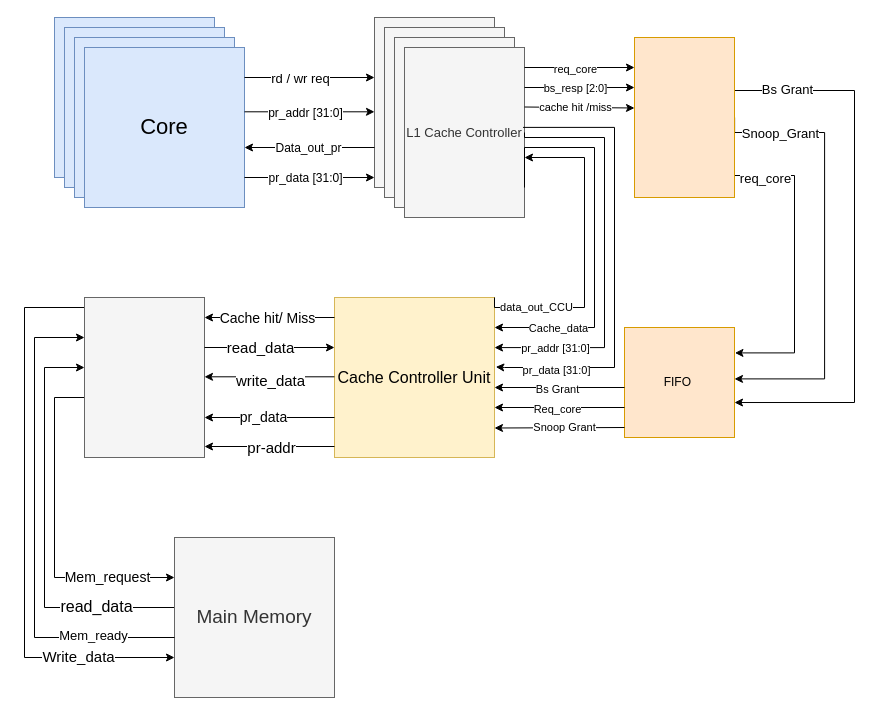
This 880x715 diagram has some shape labels left out. The box of each missing label's shape, as (x1, y1, x2, y2) in pixels:
Arbiter: (634, 36, 734, 198)
L2 Cache Controller: (84, 296, 204, 458)
